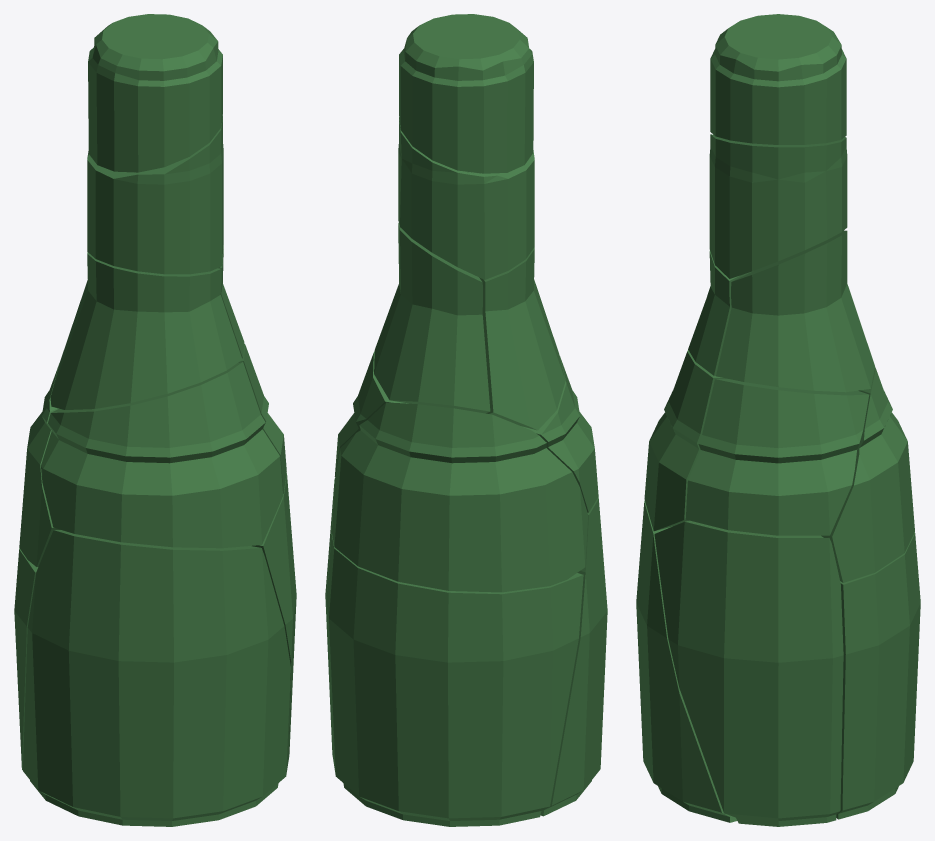
The model's file is glass_bottle_fractured.glb.
3 views of the same model, side by side, from view 1: azimuth 30°, elevation 25°; view 2: azimuth 150°, elevation 25°; view 3: azimuth 270°, elevation 25° (orthographic).
Visible parts, largest first — view 1: Cylinder_cell.009, Cylinder_cell.002, Cylinder_cell, Cylinder_cell.008, Cylinder_cell.006, Cylinder_cell.007, Cylinder_cell.004, Cylinder_cell.001, Cylinder_cell.005, Cylinder_cell.003; view 2: Cylinder_cell.001, Cylinder_cell.007, Cylinder_cell.008, Cylinder_cell.003, Cylinder_cell.006, Cylinder_cell, Cylinder_cell.009, Cylinder_cell.002, Cylinder_cell.005; view 3: Cylinder_cell.004, Cylinder_cell.005, Cylinder_cell.001, Cylinder_cell.003, Cylinder_cell.008, Cylinder_cell.006, Cylinder_cell.009, Cylinder_cell.007, Cylinder_cell.002, Cylinder_cell.
Boxes of the visible parts, x1,y1,x2,y2 form: Cylinder_cell.009: (23, 530, 290, 826); Cylinder_cell.002: (41, 362, 283, 548); Cylinder_cell: (50, 252, 242, 409); Cylinder_cell.008: (88, 14, 222, 172); Cylinder_cell.006: (87, 115, 223, 274); Cylinder_cell.007: (19, 363, 60, 566); Cylinder_cell.004: (252, 473, 296, 753); Cylinder_cell.001: (14, 548, 38, 770); Cylinder_cell.005: (238, 344, 286, 493); Cylinder_cell.003: (218, 245, 244, 358); Cylinder_cell.001: (326, 534, 583, 826); Cylinder_cell.007: (331, 402, 587, 592); Cylinder_cell.008: (399, 14, 533, 173); Cylinder_cell.003: (374, 223, 490, 413); Cylinder_cell.006: (398, 117, 534, 279); Cylinder_cell: (479, 247, 565, 430); Cylinder_cell.009: (540, 497, 607, 816); Cylinder_cell.002: (521, 356, 598, 512); Cylinder_cell.005: (334, 351, 408, 476); Cylinder_cell.004: (654, 520, 843, 826); Cylinder_cell.005: (685, 379, 869, 535); Cylinder_cell.001: (836, 532, 920, 819); Cylinder_cell.003: (716, 230, 874, 392); Cylinder_cell.008: (710, 14, 846, 144); Cylinder_cell.006: (709, 134, 847, 278); Cylinder_cell.009: (636, 500, 737, 822); Cylinder_cell.007: (821, 367, 914, 582); Cylinder_cell.002: (644, 350, 727, 531); Cylinder_cell: (688, 251, 752, 375).
Size of the model in its own units: 0.2248 by 0.6422 by 0.2248.
